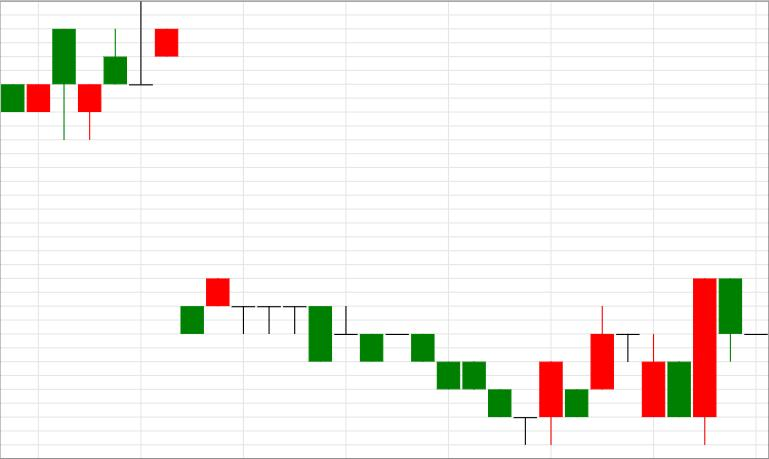morning_star_rise: (334, 306, 563, 446)
